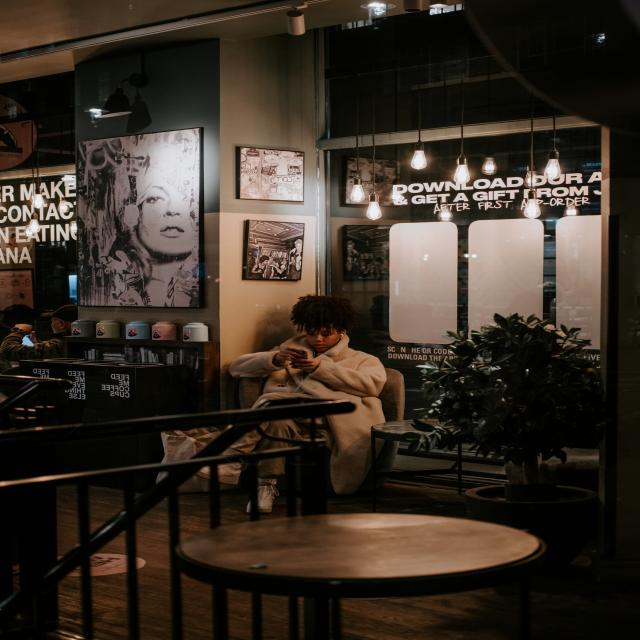adult: (223, 294, 395, 514)
